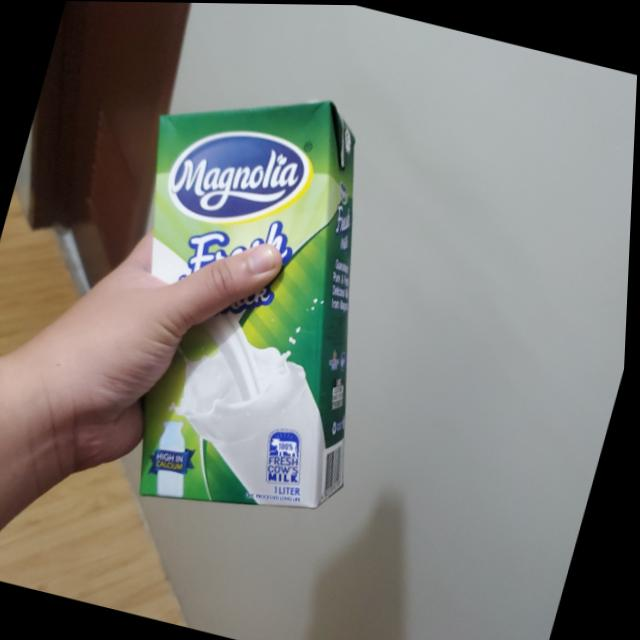milk: (63, 60, 444, 542)
